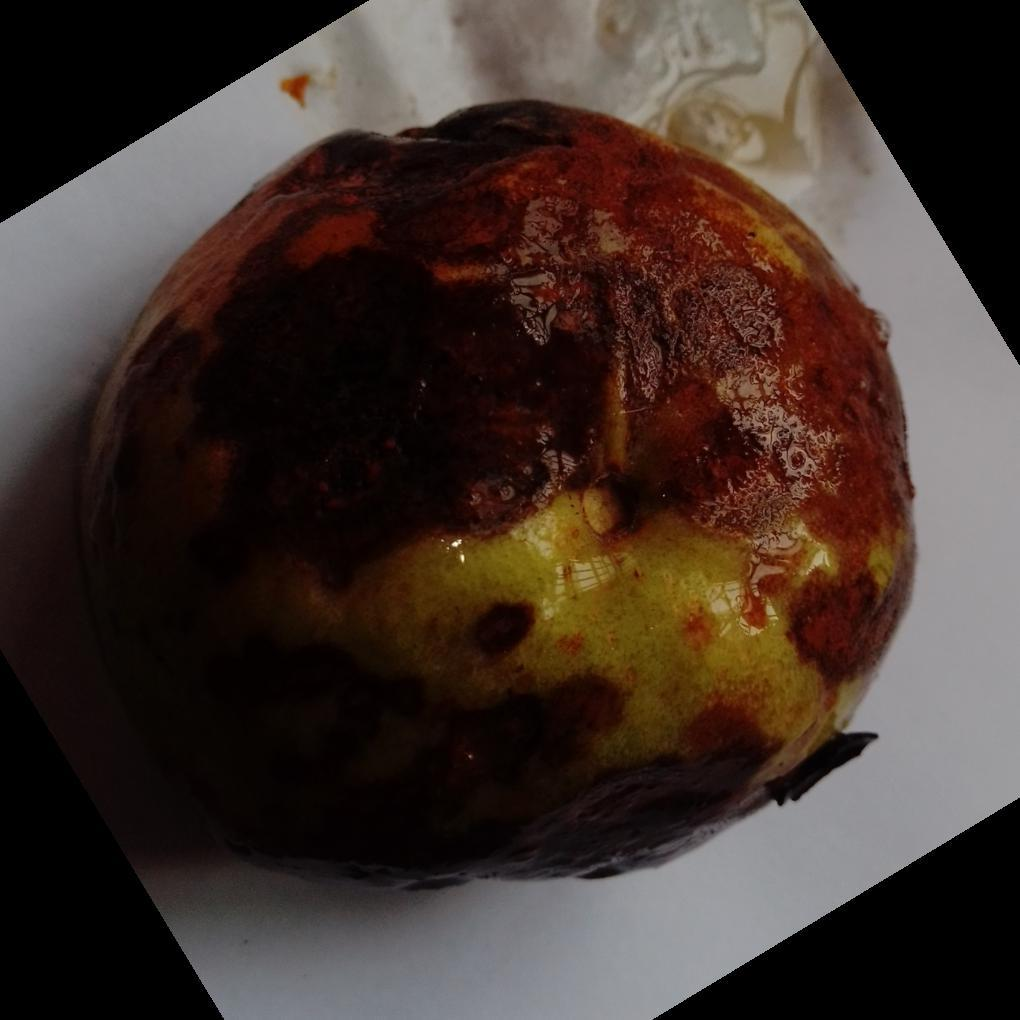FreshOrange: (71, 99, 919, 893)
